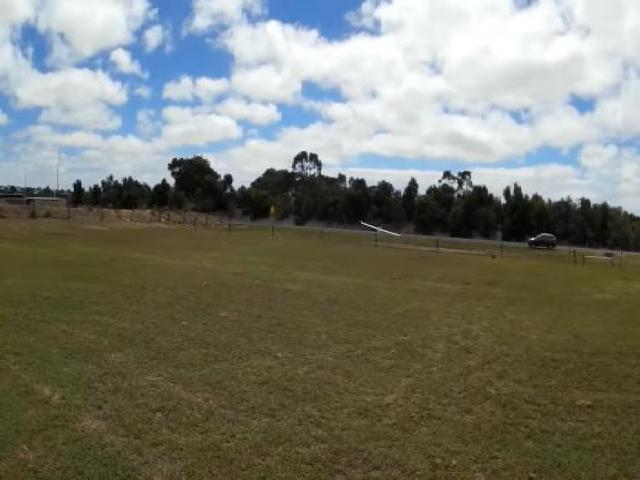uav: (354, 213, 404, 247)
